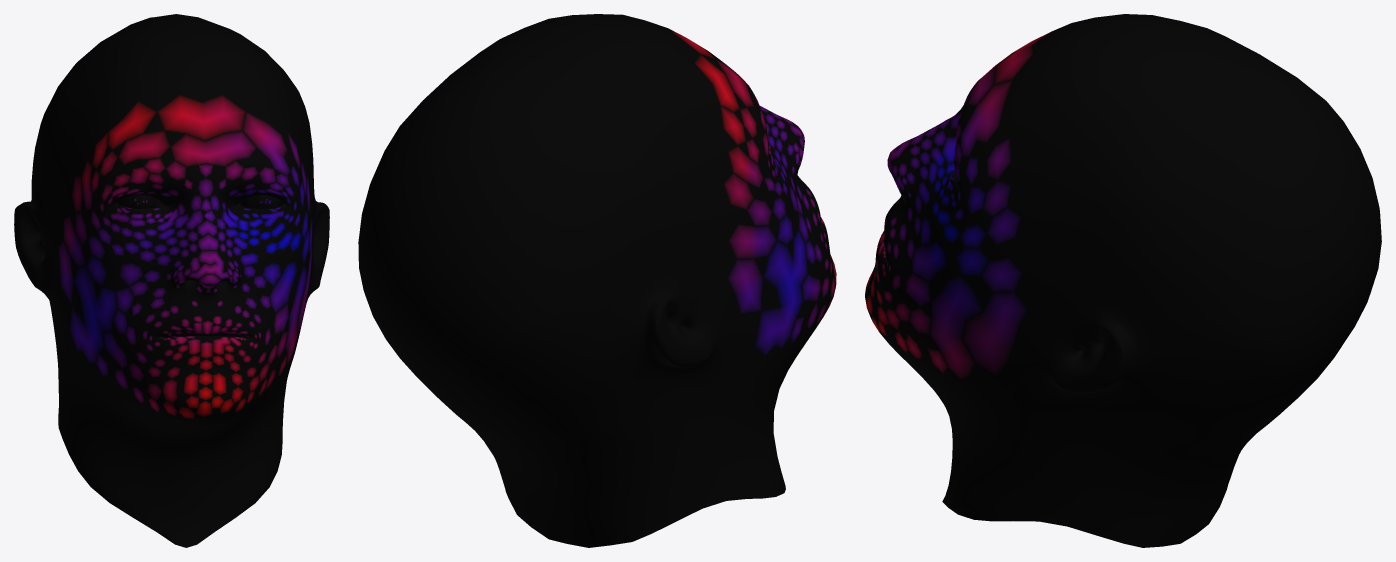
The model's file is colored_alkin.obj.
3 renders of one model, left to right at view 1: azimuth 30°, elevation 25°; view 2: azimuth 150°, elevation 25°; view 3: azimuth 270°, elevation 25°, orthographic. The views are drawn at different scales.
Size of the model in its own units: 0.9152 by 1.36 by 1.24.
